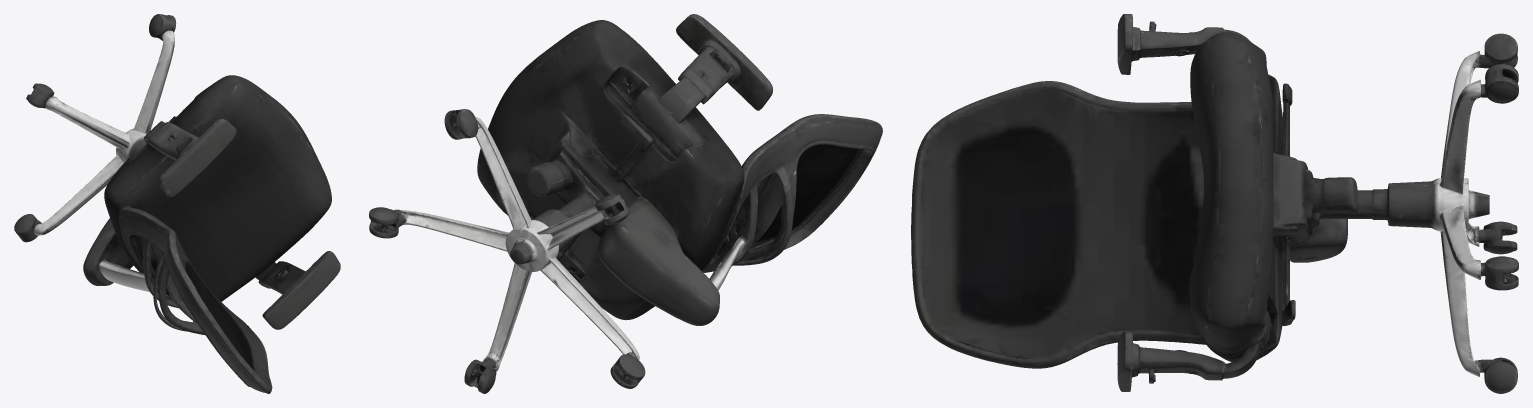
3 views of the same model, side by side, from view 1: azimuth 30°, elevation 25°; view 2: azimuth 150°, elevation 25°; view 3: azimuth 270°, elevation 25° (orthographic). The views are drawn at different scales.
Parts seen in each view (by area): view 1: Anshika.001; view 2: Anshika.001; view 3: Anshika.001.
Boxes of the visible parts, x1,y1,x2,y2 form: Anshika.001: (14, 14, 340, 393); Anshika.001: (369, 14, 882, 393); Anshika.001: (911, 14, 1518, 393).
Size of the model in its own units: 0.0213 by 0.0211 by 0.0323.
1 material, 1 textured.
